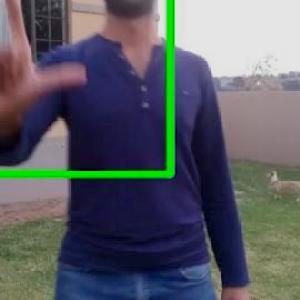land_hand: (0, 0, 88, 128)
